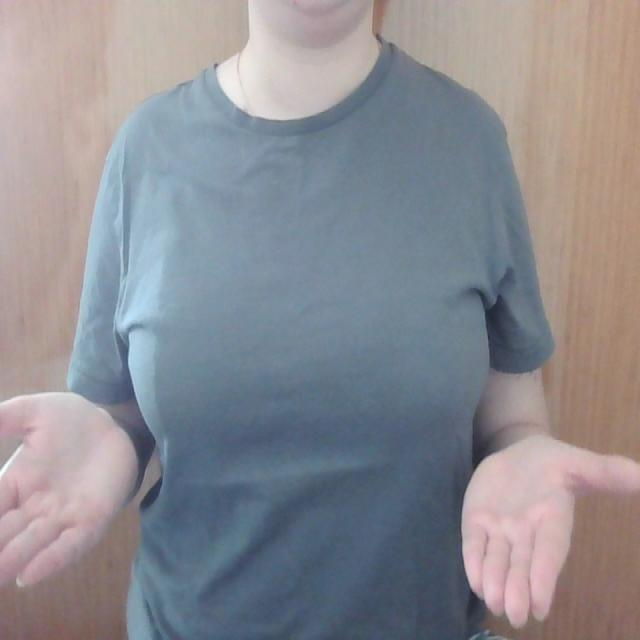Evet: (0, 387, 640, 631)
